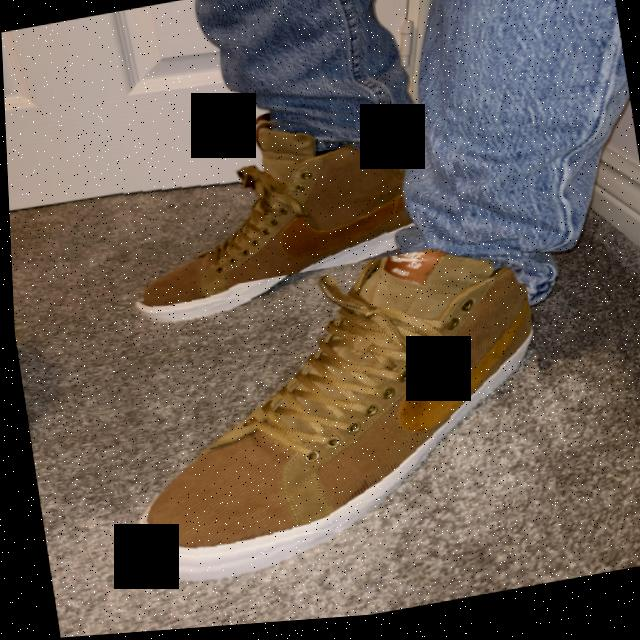shoe: (79, 239, 558, 609), (101, 89, 468, 344)
